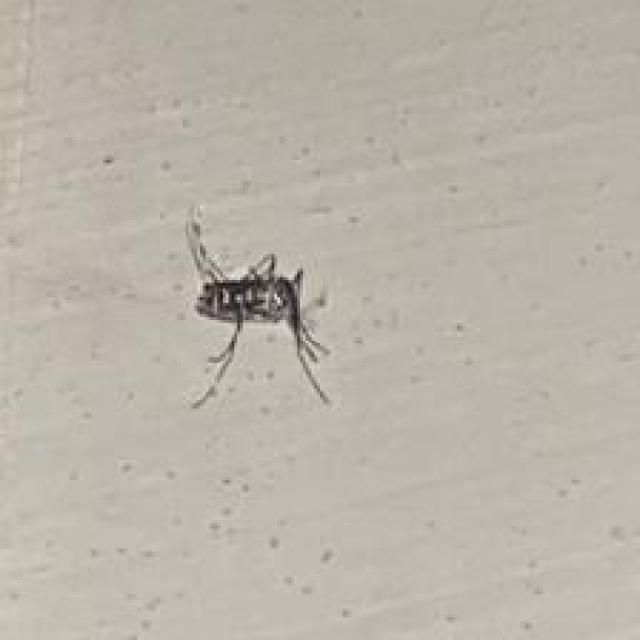Aedes albopictus: (181, 207, 333, 410)
